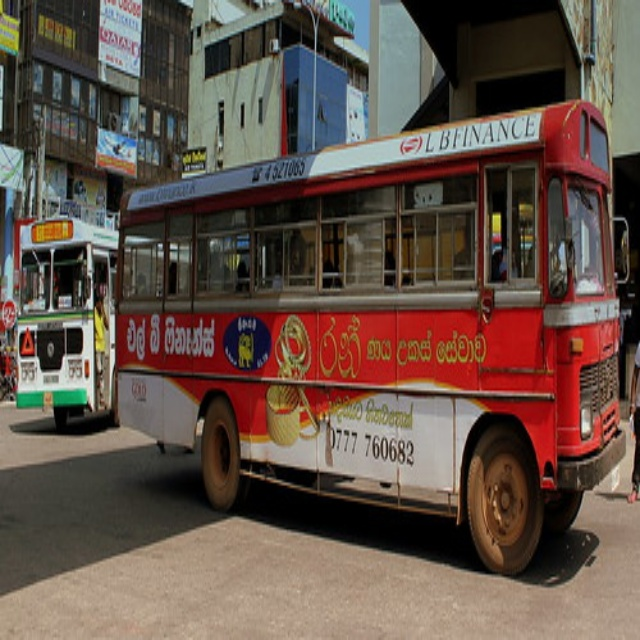Bus: (115, 97, 626, 577), (14, 212, 116, 428)
